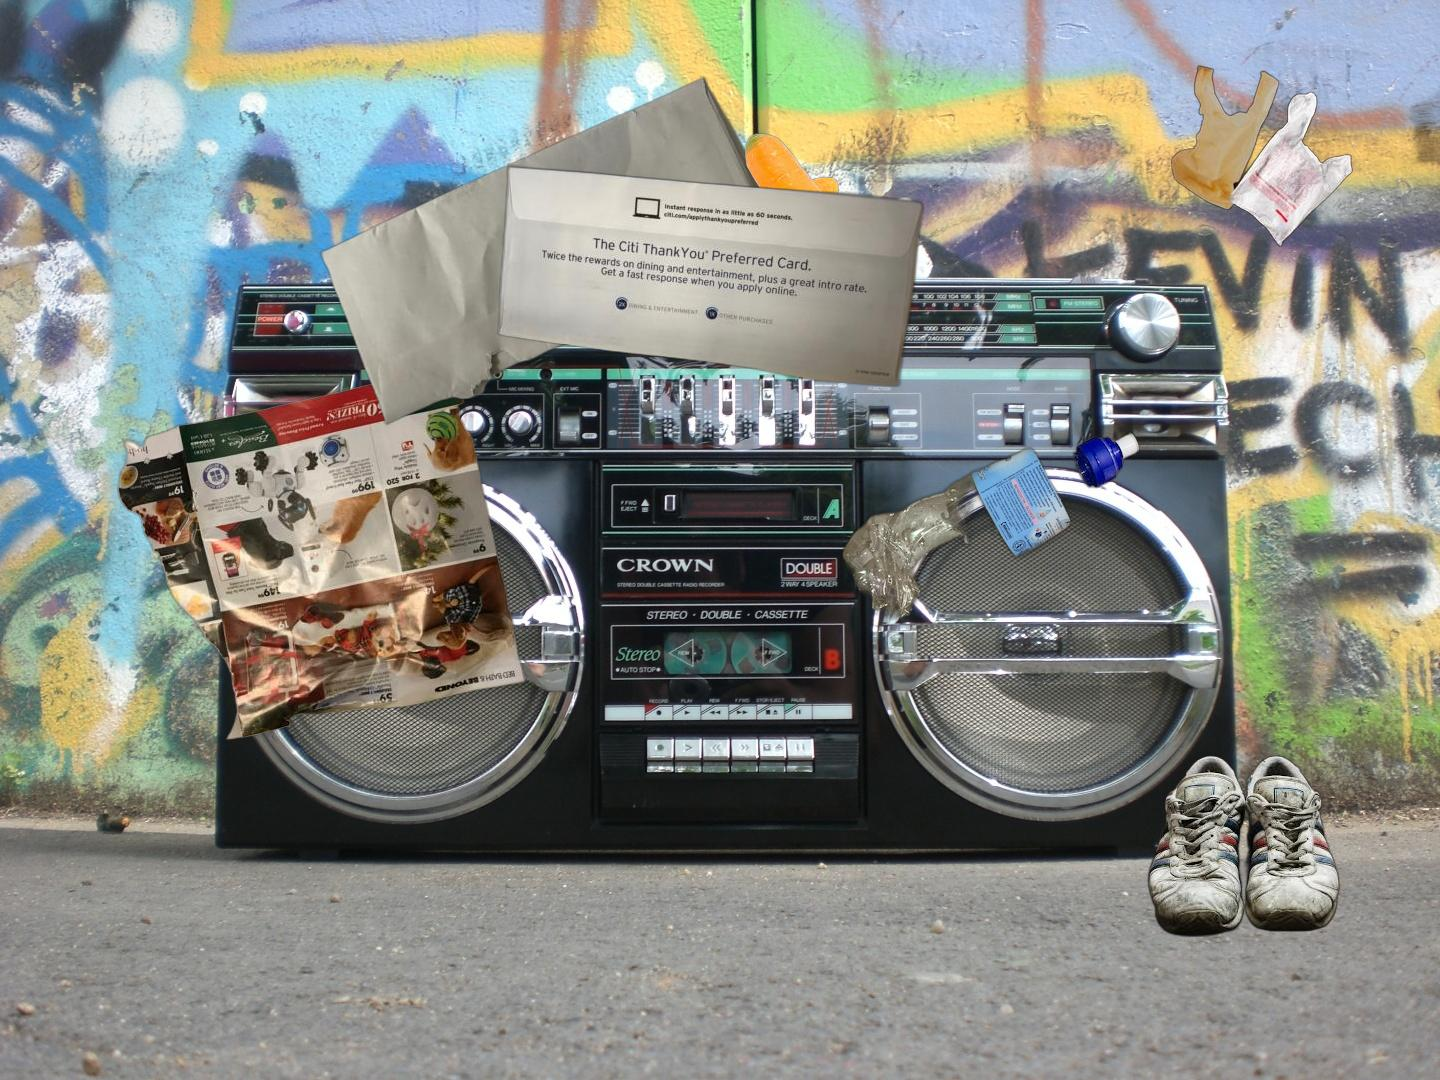biological: (681, 131, 870, 289)
paper: (317, 76, 796, 428), (114, 362, 530, 744), (493, 163, 927, 389)
plastic-bag: (1170, 64, 1355, 249)
plastic-bottles: (838, 428, 1142, 745)
shoes: (1146, 755, 1342, 937)
trashbox-cardboard: (1332, 69, 1440, 270)
